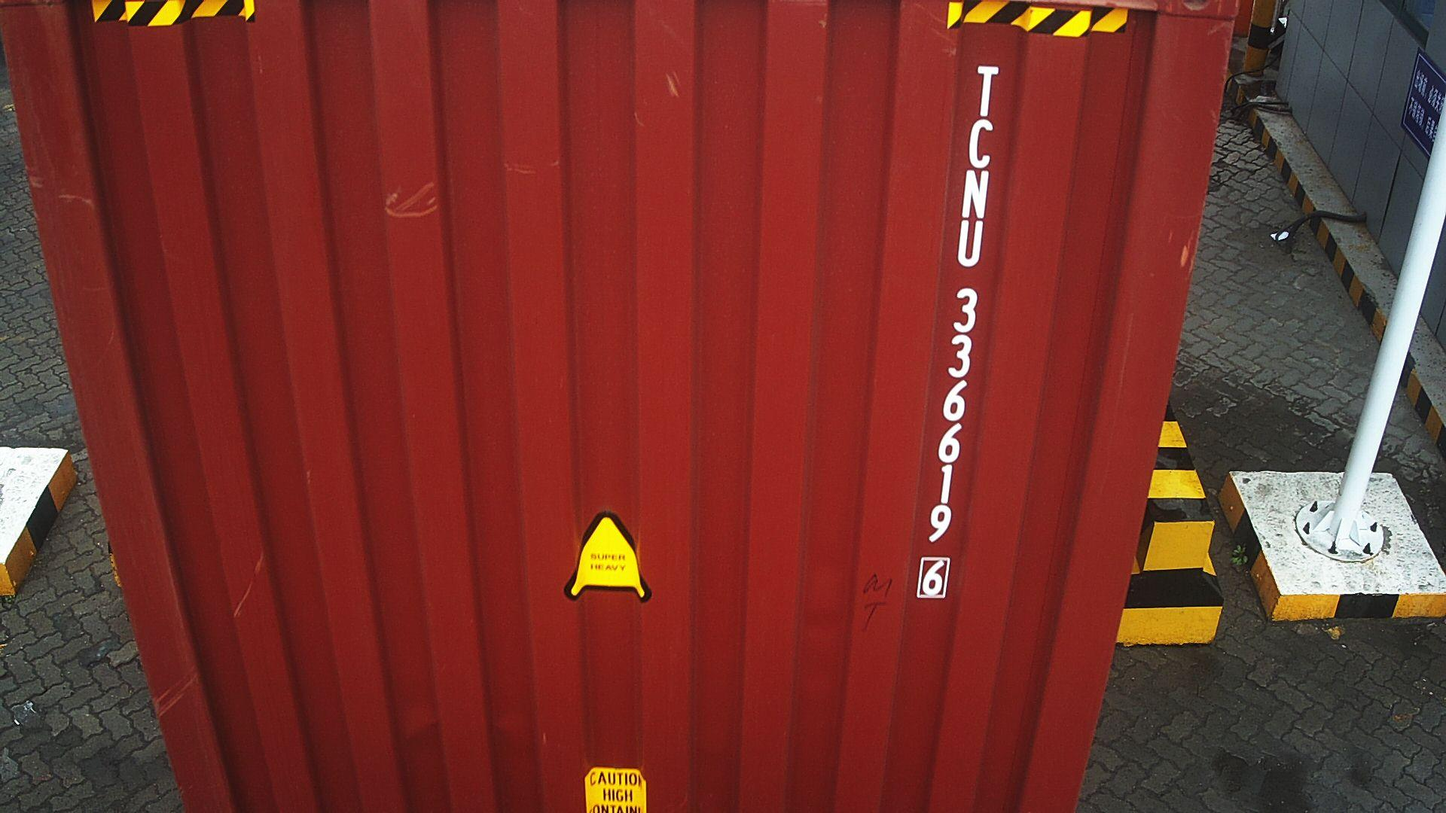container-numbers: (911, 59, 1004, 607)
